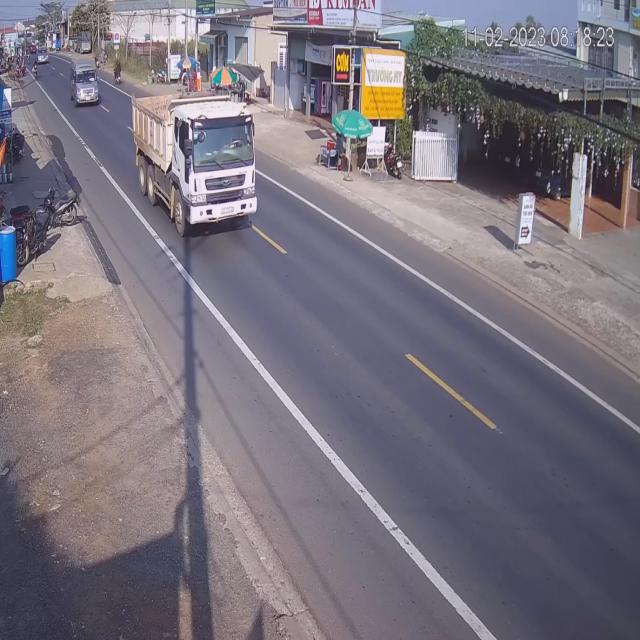bus: (71, 55, 100, 106)
truck: (131, 84, 256, 236)
